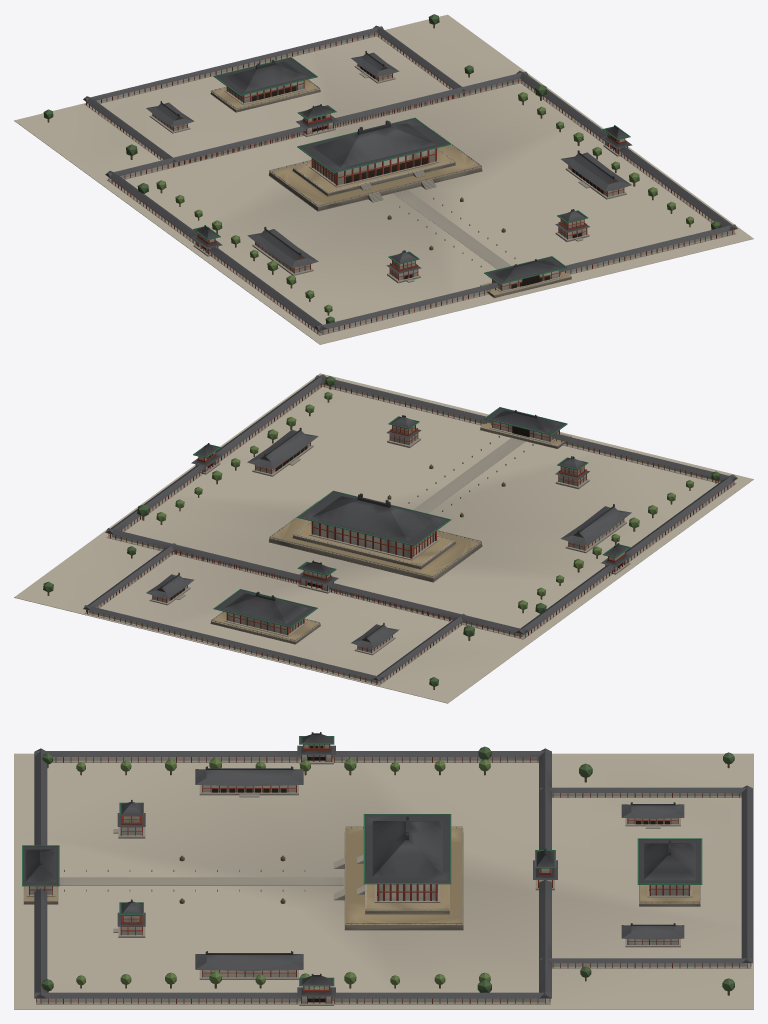
Rendered from taiji-palace.glb.
3 renders of one model, top to bottom at view 1: azimuth 30°, elevation 25°; view 2: azimuth 150°, elevation 25°; view 3: azimuth 270°, elevation 25°, orthographic. The views are drawn at different scales.
Visible parts, largest first — view 1: p0_court, p2_trees, p1_halls; view 2: p0_court, p2_trees, p1_halls; view 3: p0_court, p2_trees, p1_halls.
Boxes of the visible parts, x1=… form: p0_court: x1=14, y1=14, x2=753, y2=344; p2_trees: x1=43, y1=14, x2=720, y2=323; p1_halls: x1=149, y1=64, x2=627, y2=292; p0_court: x1=14, y1=373, x2=753, y2=703; p2_trees: x1=43, y1=376, x2=720, y2=689; p1_halls: x1=149, y1=421, x2=630, y2=655; p0_court: x1=14, y1=748, x2=753, y2=1009; p2_trees: x1=22, y1=732, x2=734, y2=996; p1_halls: x1=26, y1=744, x2=692, y2=1005.
Bounding box in the file's own units: 360 × 38.56 × 440.
